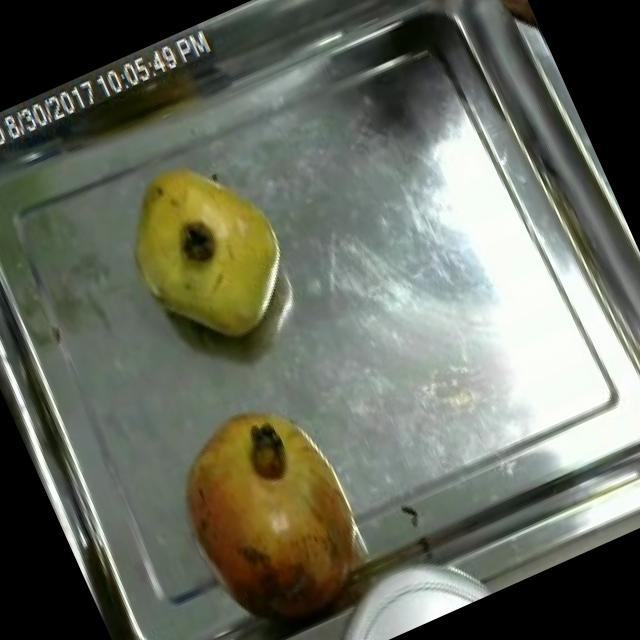fruit: (132, 368, 401, 640), (93, 125, 320, 374), (476, 0, 548, 57)
